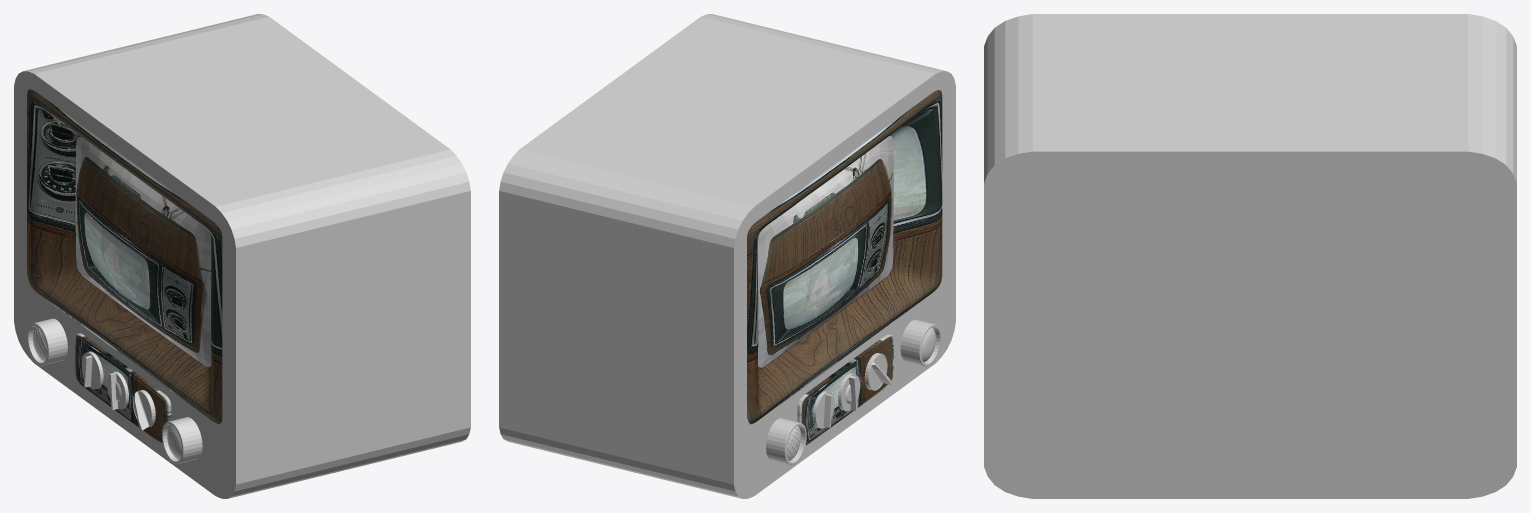
The model's file is HG-twitch-tv-v002.fbx.
3 views of the same model, side by side, from view 1: azimuth 30°, elevation 25°; view 2: azimuth 150°, elevation 25°; view 3: azimuth 270°, elevation 25° (orthographic). The views are drawn at different scales.
Visible parts, largest first — view 1: main tv frame, main screen face, main screen face.002, dials, SPEAKER.002, SPEAKER.001, Cylinder.001, Cylinder, Cylinder.002; view 2: main tv frame, main screen face, main screen face.002, dials, SPEAKER.001, SPEAKER.002, Cylinder.001, Cylinder.002, Cylinder; view 3: main tv frame.
Boxes of the visible parts, x1,y1,x2,y2 form: main tv frame: [14, 14, 470, 498]; main screen face: [27, 89, 222, 423]; main screen face.002: [75, 136, 211, 367]; dials: [74, 333, 171, 444]; SPEAKER.002: [27, 318, 67, 365]; SPEAKER.001: [162, 417, 202, 463]; Cylinder.001: [133, 390, 155, 431]; Cylinder: [81, 351, 103, 389]; Cylinder.002: [107, 371, 128, 409]; main tv frame: [499, 14, 955, 498]; main screen face: [747, 90, 942, 424]; main screen face.002: [758, 137, 893, 367]; dials: [797, 334, 893, 445]; SPEAKER.001: [900, 319, 941, 366]; SPEAKER.002: [766, 418, 806, 465]; Cylinder.001: [864, 353, 892, 390]; Cylinder.002: [838, 373, 860, 411]; Cylinder: [812, 391, 834, 428]; main tv frame: [984, 14, 1516, 498].
Size of the model in its own units: 2.16 by 3.27 by 2.36.
1 material, 1 textured.
